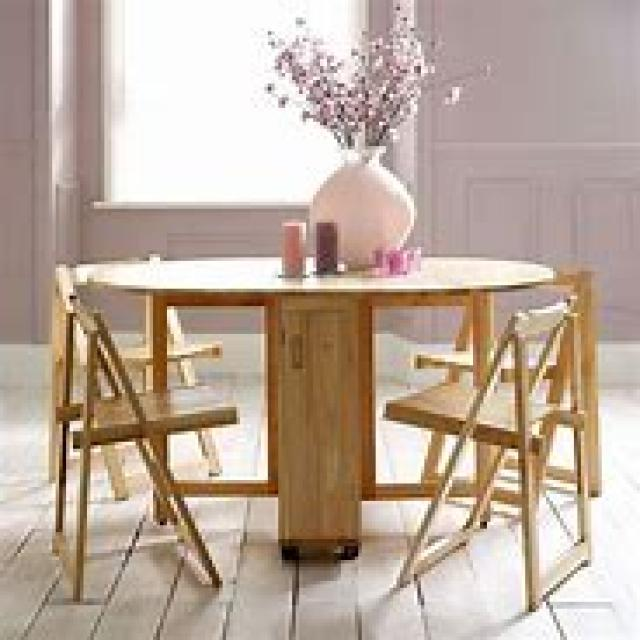chair: (382, 296, 588, 612)
table: (87, 250, 556, 560)
